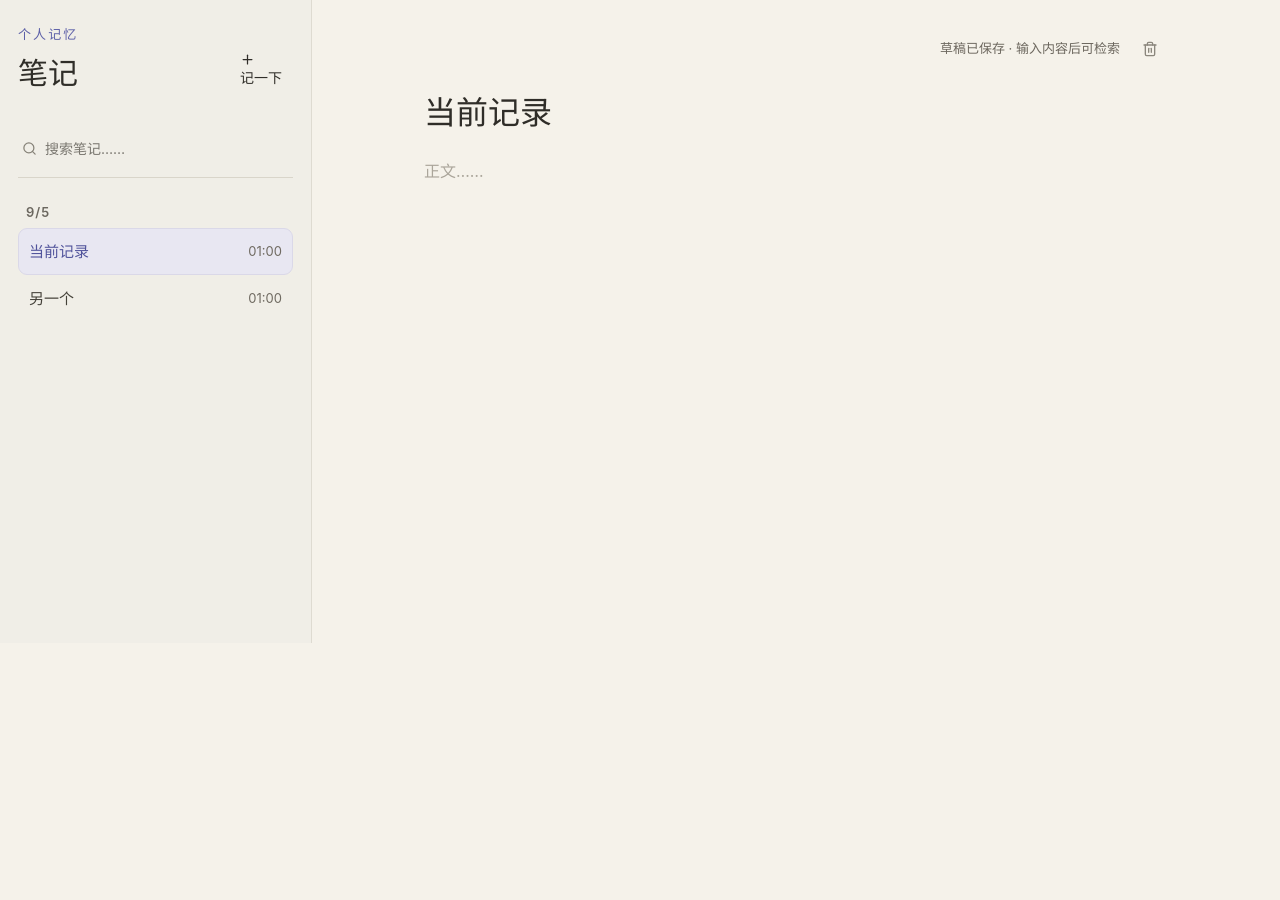
retains failed edits, blocks switching and retries the exact text
This screenshot has width=1280, height=900.
Type "不能丢失的输入" into the text box named "笔记正文" at (796, 372), box [424,157,1168,587]
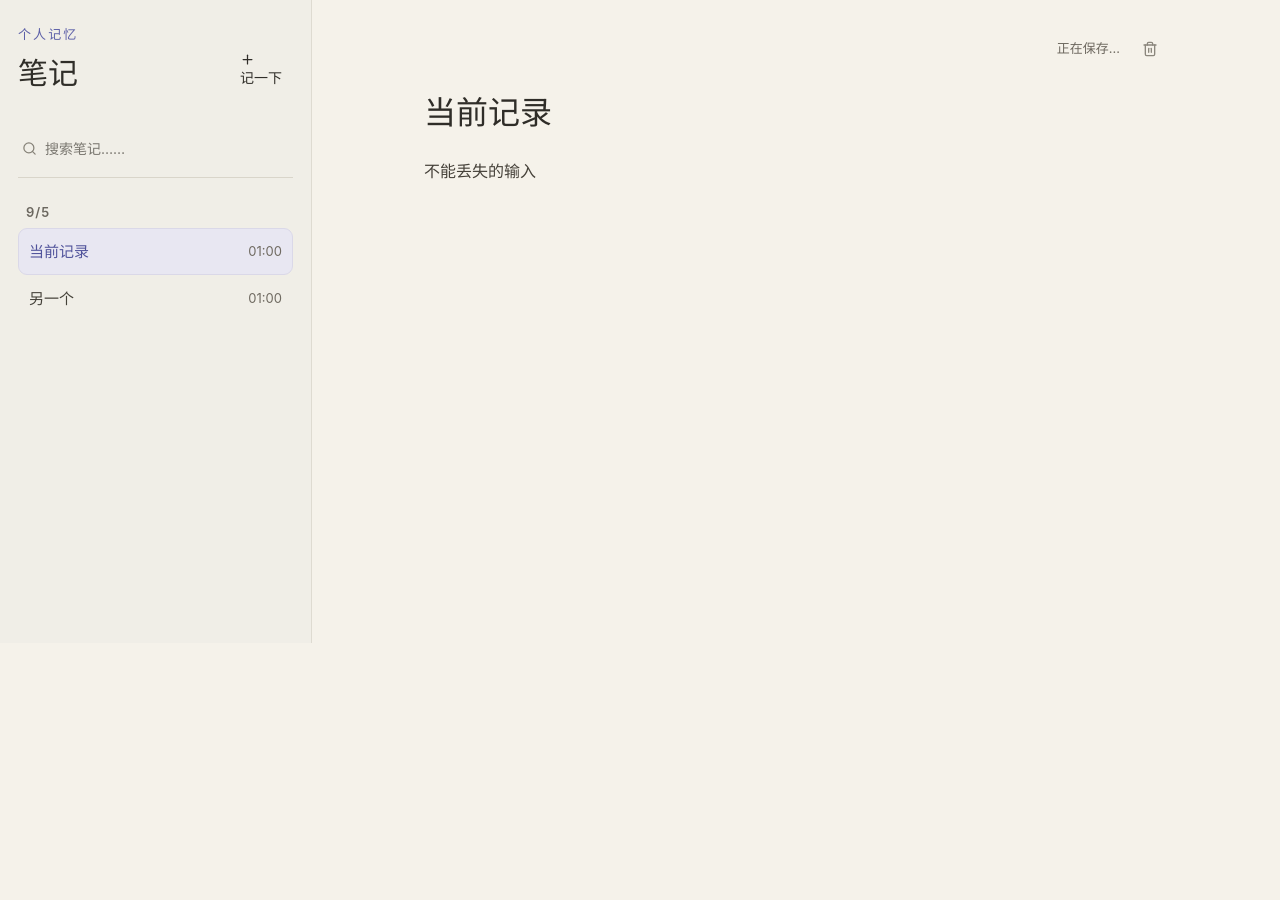
Click the button "另一个 01:00" at (52, 298), box [18,275,293,322]
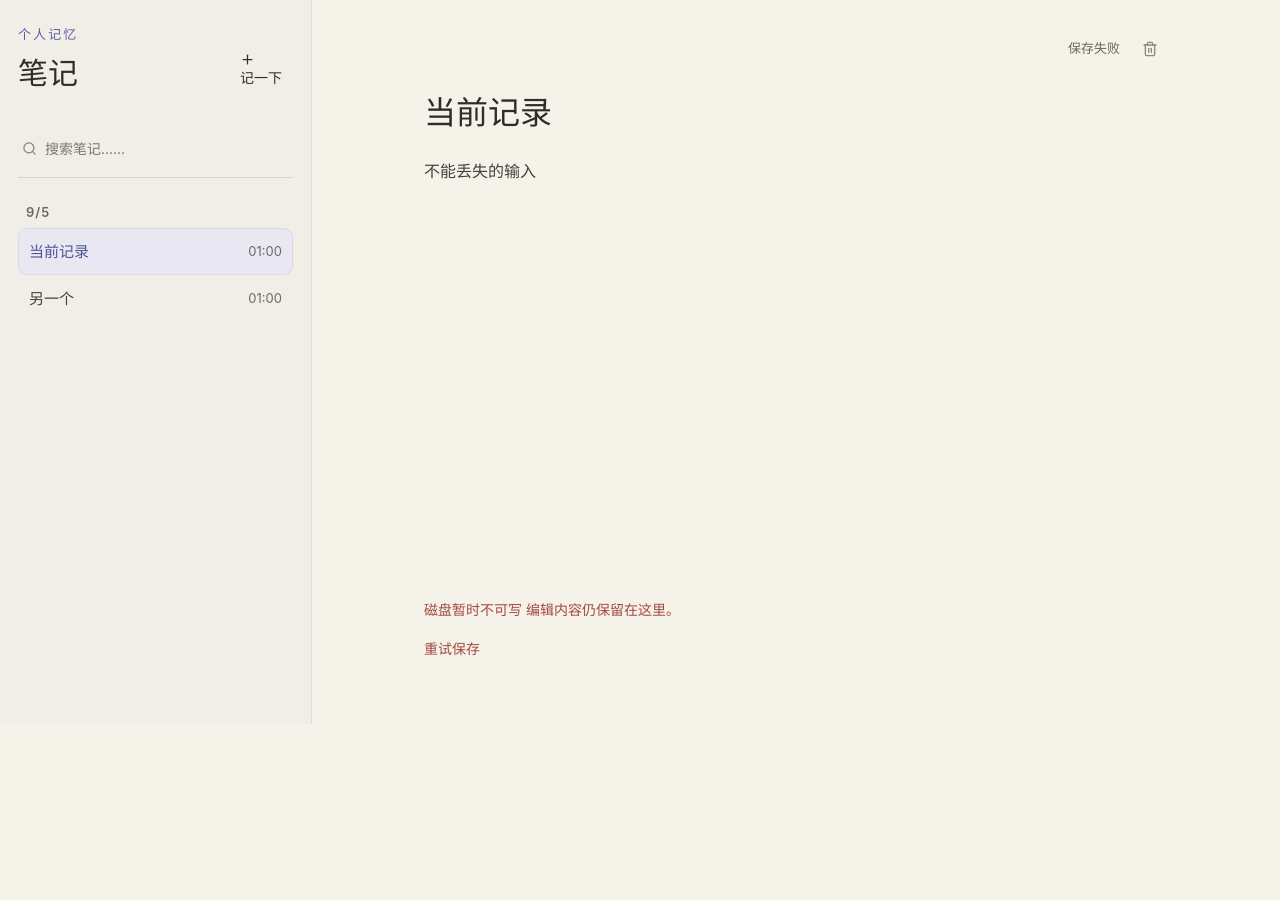
Expected: the field named "笔记标题" holds "当前记录", [424,92,1168,135]
Expected: the text "磁盘暂时不可写 编辑内容仍保留在这里。" is shown, [424,601,680,618]
Click the button "重试保存" at (452, 650), box [424,632,480,668]
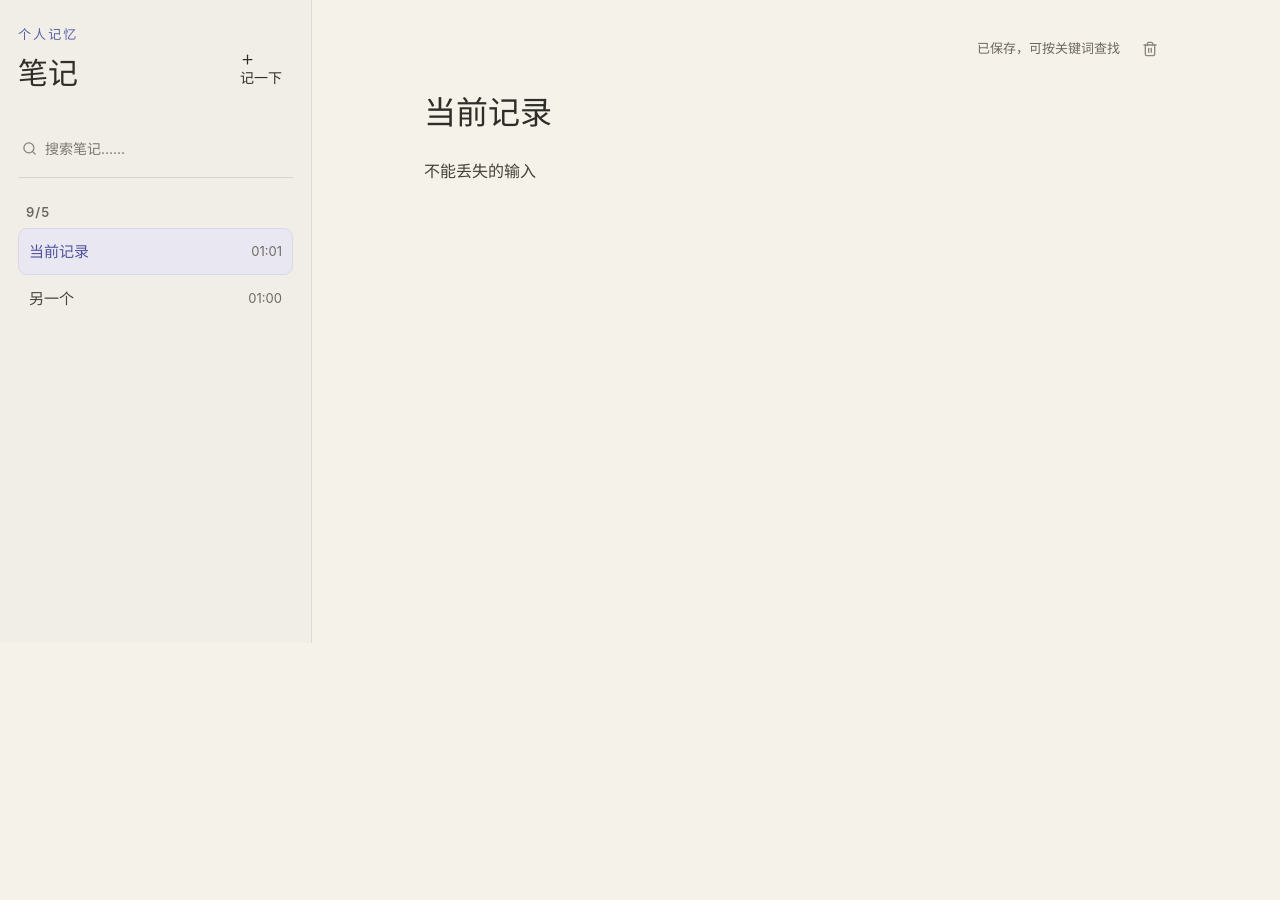
Expected: the text "已保存，可按关键词查找" is shown, [977,39,1120,59]
